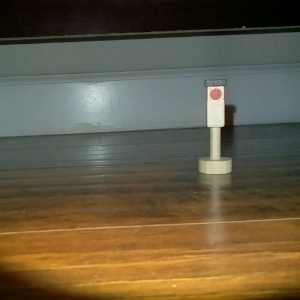traffic light red: (197, 78, 233, 175)
